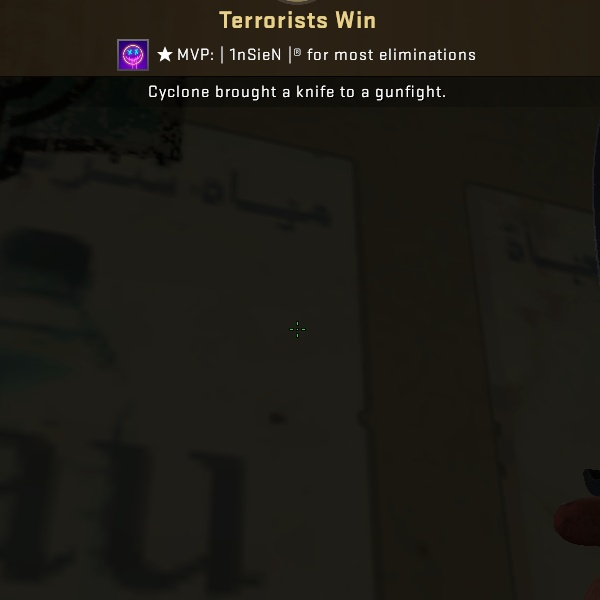t_head: (576, 452, 599, 507)
